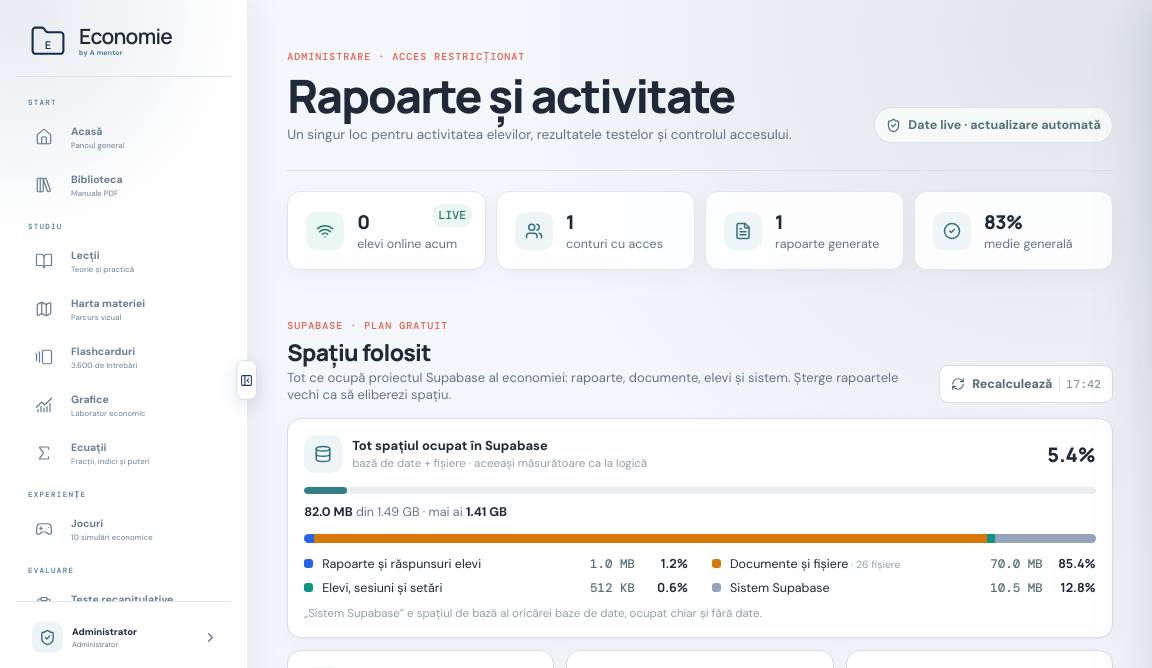
application flow › persists the administrator theme, font and changed password
The width and height of the screenshot is (1152, 668).
Earlier steps of the test are not shown.
Later steps or results of the test are not shown.
Expected: the navigation bar named "Navigare principală" is shown, x1=16 y1=86 x2=231 y2=601
Click the button titled "Deschide profilul" at [124, 638], box x1=26 y1=615 x2=221 y2=660
(page scrolled)
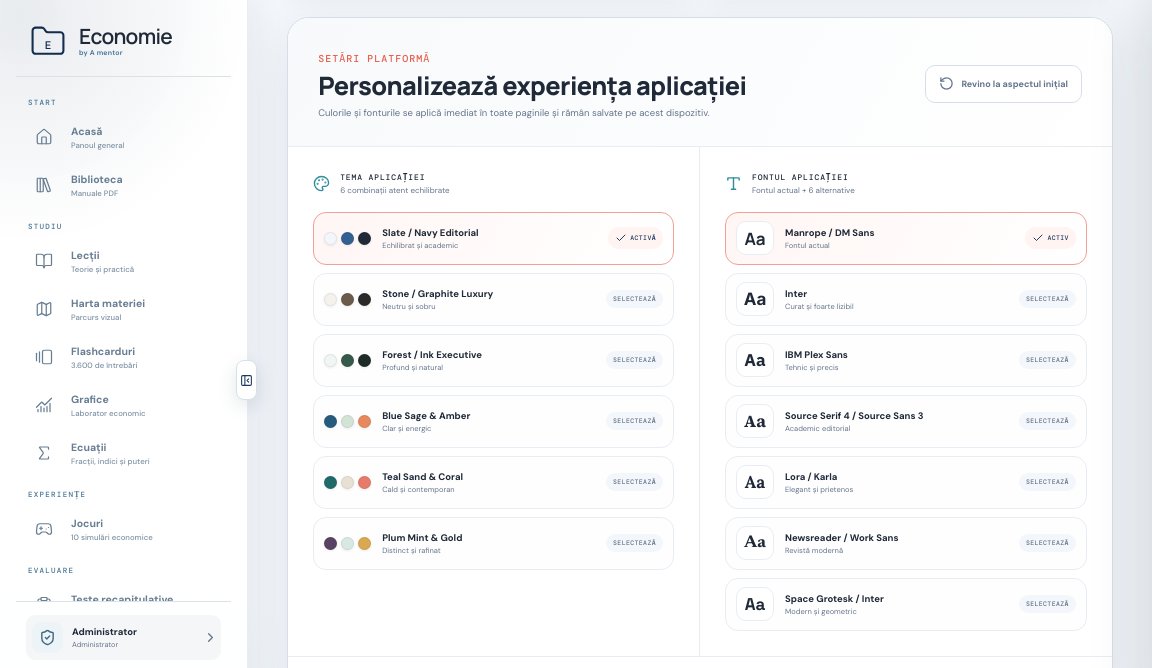
Click the button "Forest / Ink Executive Profund și natural Selectează" at [432, 355], box x1=313 y1=334 x2=674 y2=387
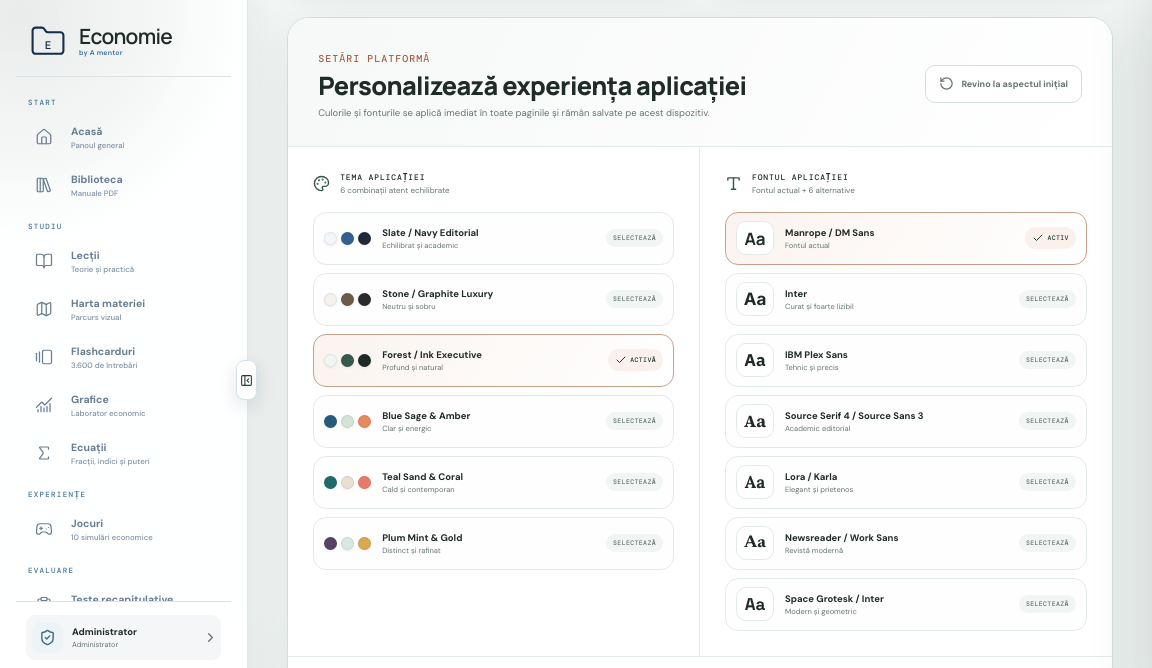
Click the button "Aa Lora / Karla Elegant și prietenos Selectează" at [755, 482], box x1=725 y1=456 x2=1087 y2=509
(page scrolled)
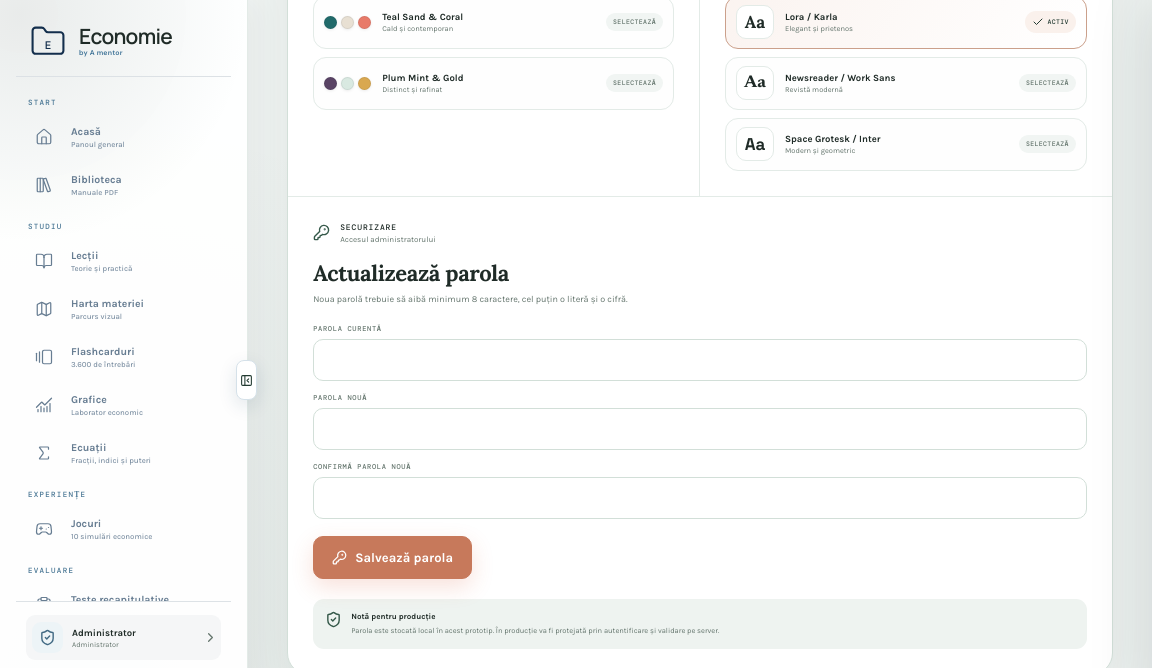
Now the number of password fields is 3, box x1=313 y1=340 x2=1087 y2=382; x1=313 y1=408 x2=1087 y2=450; x1=313 y1=478 x2=1087 y2=520
